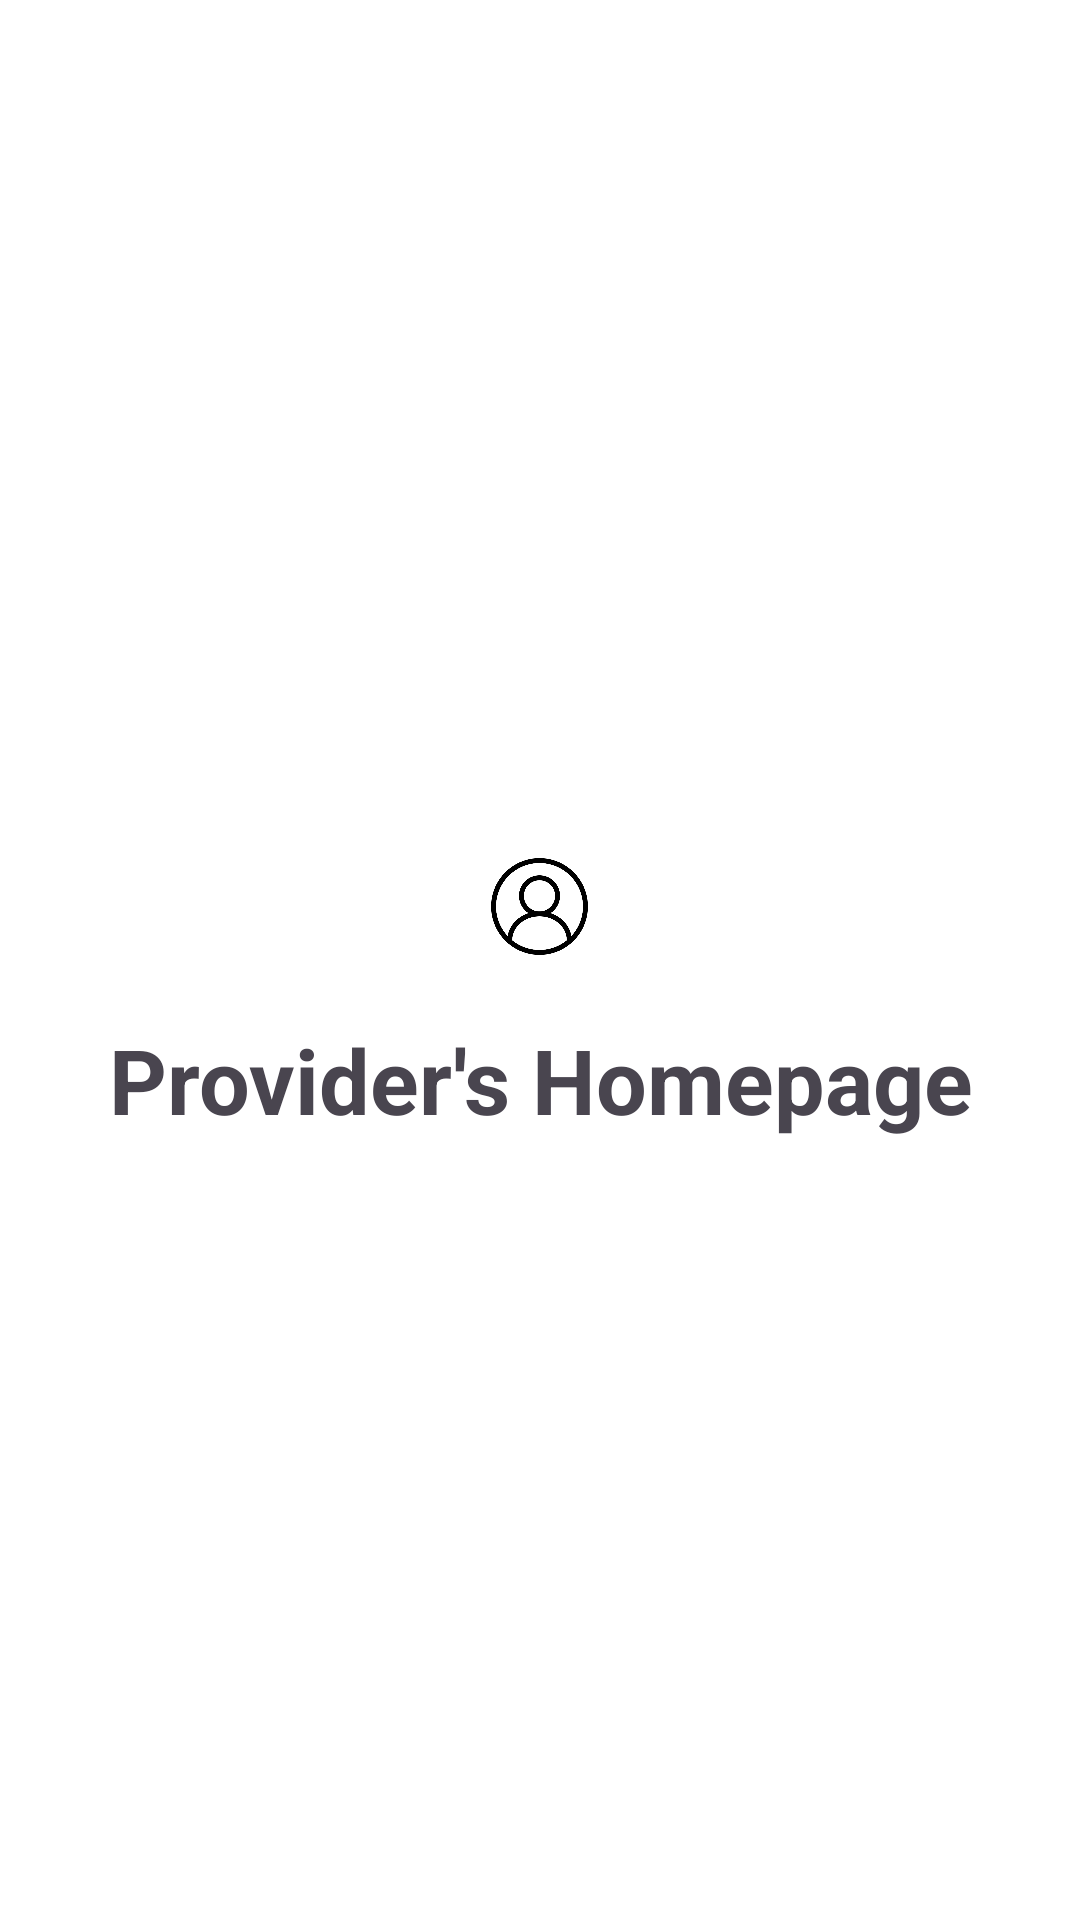

Point at icon controls on the screen. Image size 1080 × 1920, points as point (x, y).
people: point (539, 906)
